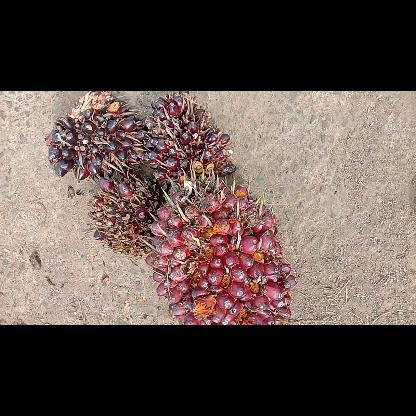TBS abnormal: (144, 91, 235, 193), (45, 91, 143, 179), (88, 178, 162, 258)
TBS masak: (145, 178, 296, 324)
